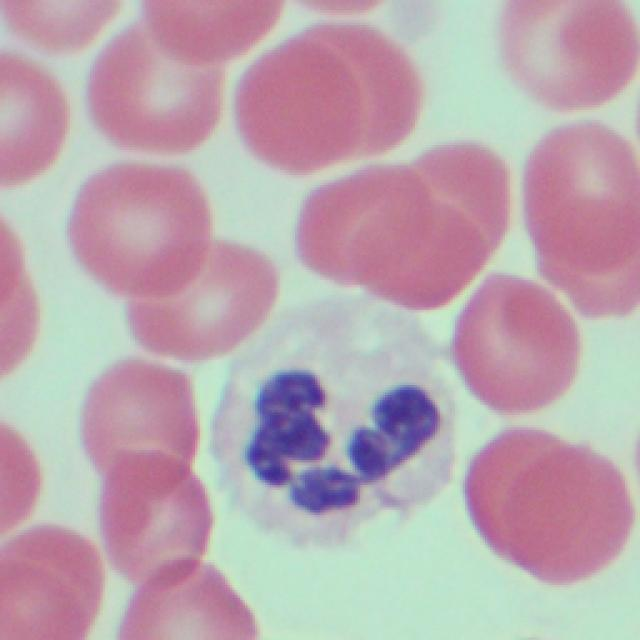RBC: (228, 17, 419, 179), (87, 345, 211, 586), (467, 420, 635, 590), (518, 115, 638, 326), (66, 149, 210, 323), (78, 20, 225, 159), (445, 274, 581, 416), (124, 240, 273, 365), (313, 181, 480, 292), (492, 2, 638, 120), (392, 142, 511, 247), (110, 553, 255, 639), (6, 527, 104, 640), (140, 0, 286, 68), (0, 49, 63, 199), (1, 0, 128, 60), (0, 203, 41, 386)
WBC: (250, 343, 446, 519)
